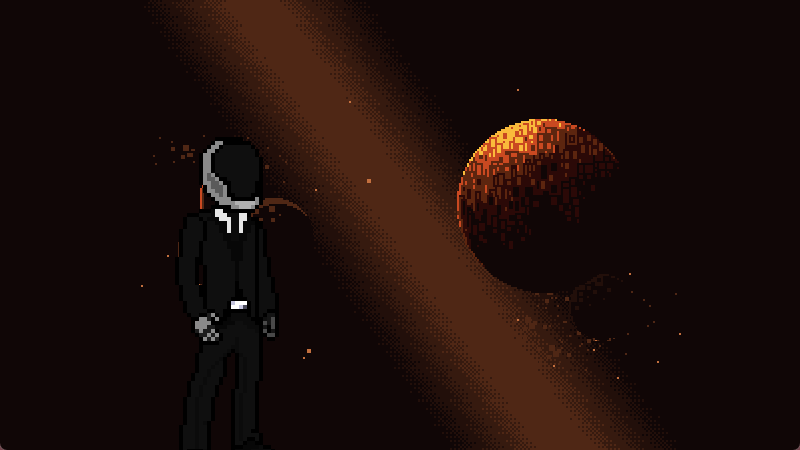next_screen: (12, 12, 782, 437)
